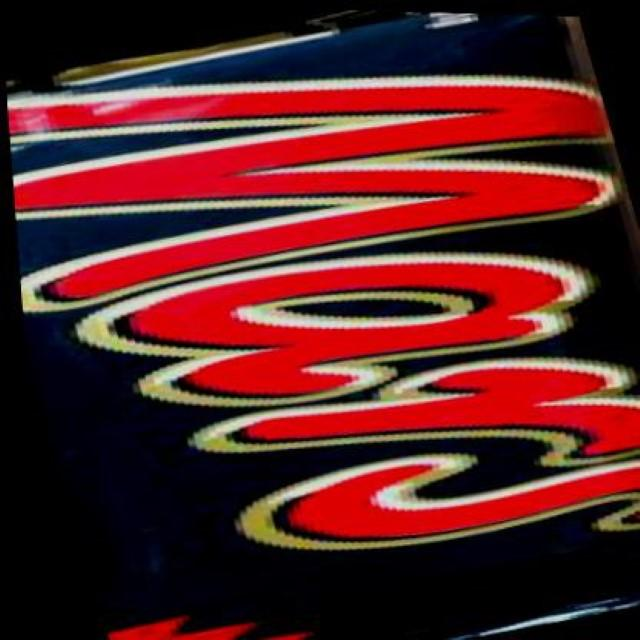mars_chocolate: (40, 44, 638, 598)
